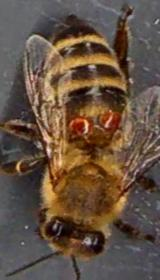varroa_mite: (64, 110, 96, 138), (90, 107, 122, 130)
